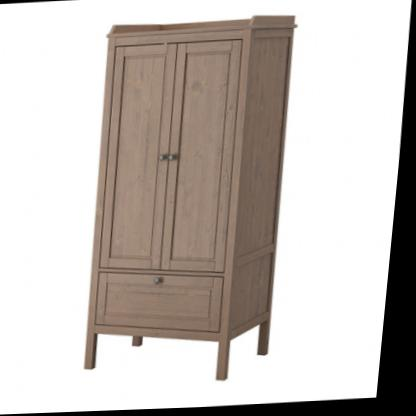Cabinet: (75, 9, 307, 391)
